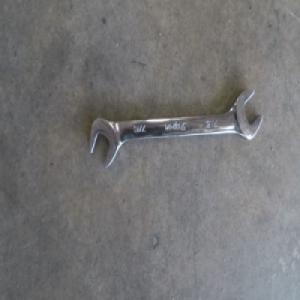Wrench: (87, 91, 256, 168)
